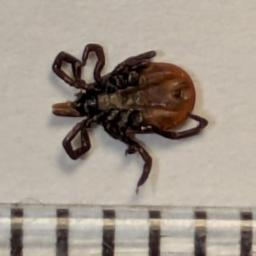Ixodes scapularis: (51, 45, 208, 196)
